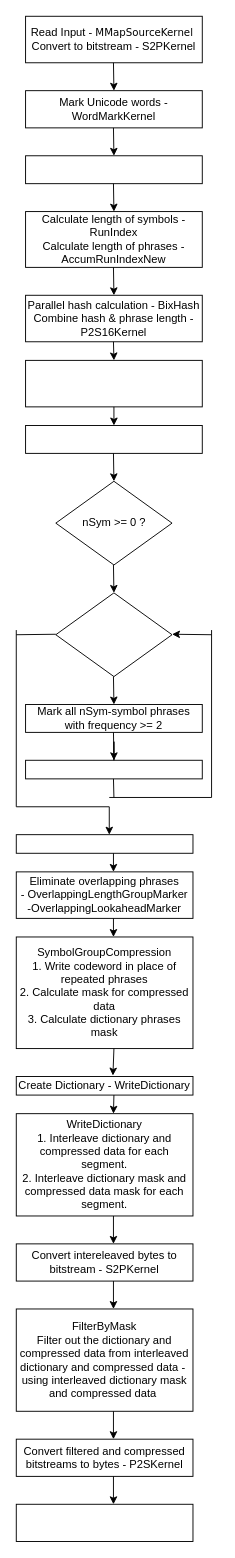
The diagram is 235 pixels wide and 1558 high, and some of its shapes have lost their labels. The shapes that lost their labels are listed below. From the top down, each one's centre as x and y in pixels, then its label:
At pixel 113 169: "Mark ZTF symbols - ZTF_Phrases".
At pixel 113 383: "Combine hash and phrase length and convert to bytes - P2S16Kernel".
At pixel 113 439: "nSym = symCount i = 0".
At pixel 113 634: "i < 5 ?".
At pixel 113 769: "i = i+1".
At pixel 104 843: "nSym = nSym -1".
At pixel 104 1522: "Print compressed data - StdOutKernel".
